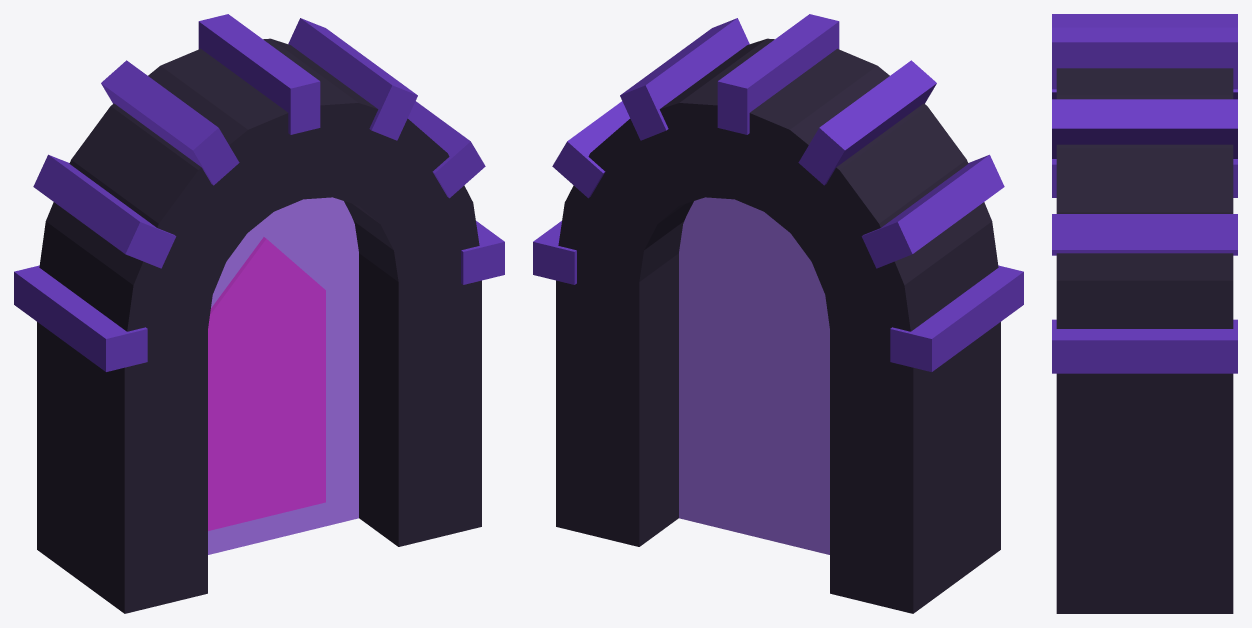
File: env_r16_void_portal.glb
3 views of the same model, side by side, from view 1: azimuth 30°, elevation 25°; view 2: azimuth 150°, elevation 25°; view 3: azimuth 270°, elevation 25° (orthographic).
Visible parts, largest first — view 1: env_r16_void_portal; view 2: env_r16_void_portal; view 3: env_r16_void_portal.
Boxes of the visible parts, x1,y1,x2,y2 form: env_r16_void_portal: [14, 14, 504, 613]; env_r16_void_portal: [533, 14, 1023, 613]; env_r16_void_portal: [1052, 14, 1237, 613].
Bounding box in the file's own units: 6 × 7 × 2.4.
1 material, 1 textured.
